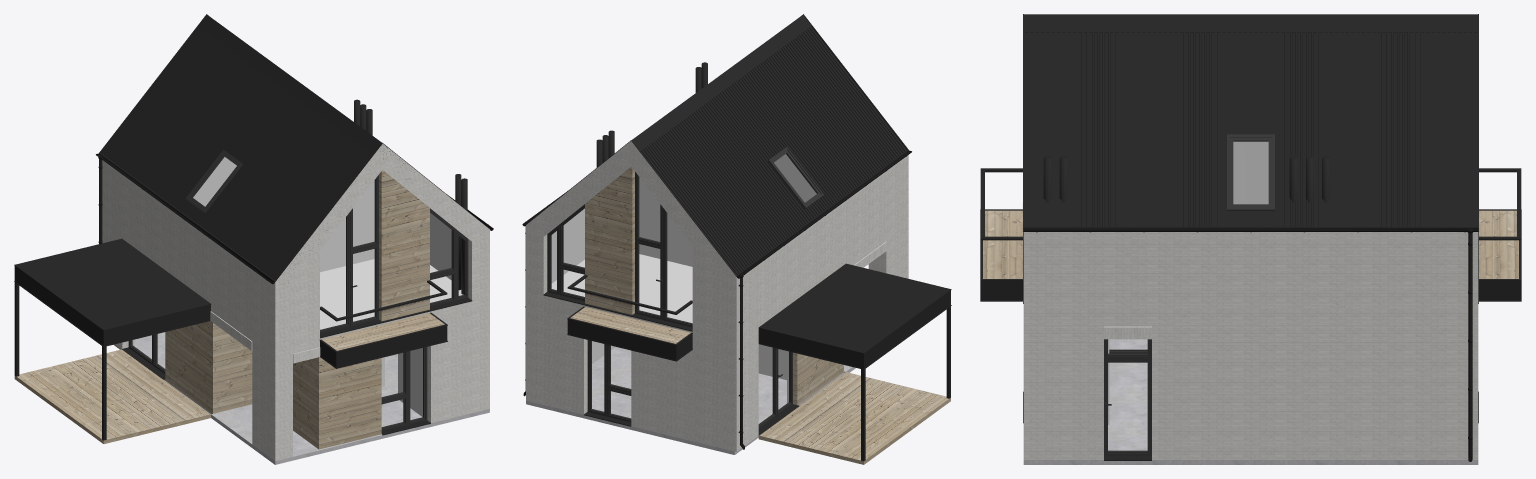
File: blender2.glb
3 renders of one model, left to right at view 1: azimuth 30°, elevation 25°; view 2: azimuth 150°, elevation 25°; view 3: azimuth 270°, elevation 25°, orthographic. The views are drawn at different scales.
Visible parts, largest first — view 1: G-Difference, G-__556140, G-__555573, G-__555618, G-__556185, G-__556590, G-__556149, G-__555600, G-__556212, G-__556500, G-__556203, G-OuterShell (+82 smaller); view 2: G-Difference, G-__556140, G-__555573, G-__555618, G-__556185, G-__556635, G-__555600, G-__556212, G-__556149, G-OuterShell, G-__555582, G-__556500 (+85 smaller); view 3: G-Difference, G-__556140, G-__556185, G-__556590, G-__556635, G-OuterShell, G-__556500, G-__556419, G-__556023, Group#53.109, Group#53.123, Group#53.127 (+90 smaller).
Boxes of the visible parts, x1=… form: G-Difference: x1=102, y1=143, x2=489, y2=367; G-__556140: x1=102, y1=241, x2=489, y2=449; G-__555573: x1=14, y1=238, x2=211, y2=346; G-__555618: x1=14, y1=349, x2=210, y2=443; G-__556185: x1=113, y1=332, x2=489, y2=464; G-__556590: x1=320, y1=312, x2=447, y2=367; G-__556149: x1=252, y1=351, x2=292, y2=461; G-__555600: x1=320, y1=259, x2=463, y2=329; G-__556212: x1=200, y1=162, x2=374, y2=272; G-__556500: x1=354, y1=99, x2=467, y2=294; G-__556203: x1=381, y1=348, x2=422, y2=416; G-OuterShell: x1=204, y1=15, x2=381, y2=145; G-Difference: x1=526, y1=141, x2=908, y2=359; G-__556140: x1=526, y1=309, x2=843, y2=451; G-__555573: x1=758, y1=263, x2=951, y2=369; G-__555618: x1=758, y1=372, x2=950, y2=464; G-__556185: x1=526, y1=347, x2=855, y2=454; G-__556635: x1=567, y1=306, x2=692, y2=360; G-__555600: x1=551, y1=254, x2=692, y2=323; G-__556212: x1=639, y1=159, x2=809, y2=266; G-__556149: x1=868, y1=234, x2=908, y2=278; G-OuterShell: x1=632, y1=15, x2=805, y2=143; G-__555582: x1=861, y1=306, x2=950, y2=461; G-__556500: x1=596, y1=62, x2=707, y2=167; G-Difference: x1=1023, y1=154, x2=1478, y2=338; G-__556140: x1=1023, y1=339, x2=1478, y2=459; G-__556185: x1=1023, y1=339, x2=1478, y2=464; G-__556590: x1=980, y1=209, x2=1022, y2=300; G-__556635: x1=1479, y1=209, x2=1521, y2=300; G-OuterShell: x1=1024, y1=14, x2=1477, y2=19; G-__556500: x1=1043, y1=155, x2=1329, y2=202; G-__556419: x1=1023, y1=228, x2=1478, y2=231; G-__556023: x1=1104, y1=359, x2=1151, y2=455; Group#53.109: x1=1034, y1=19, x2=1039, y2=227; Group#53.123: x1=1141, y1=19, x2=1146, y2=227; Group#53.127: x1=1371, y1=19, x2=1376, y2=227.
Size of what is drawn, in the model's own units: 9.14 by 8.9 by 10.12.
7 materials, 3 textured.
